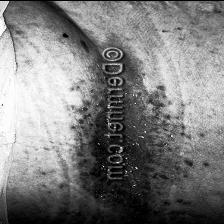Toxin: (88, 53, 182, 219)
